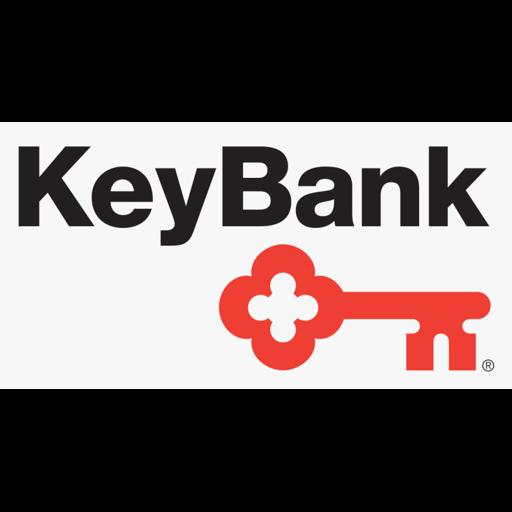Key Bank: (0, 122, 512, 389)
